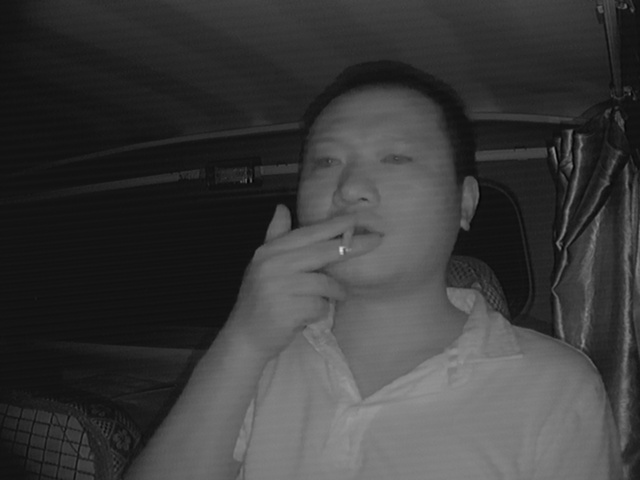hand: (241, 197, 378, 346)
